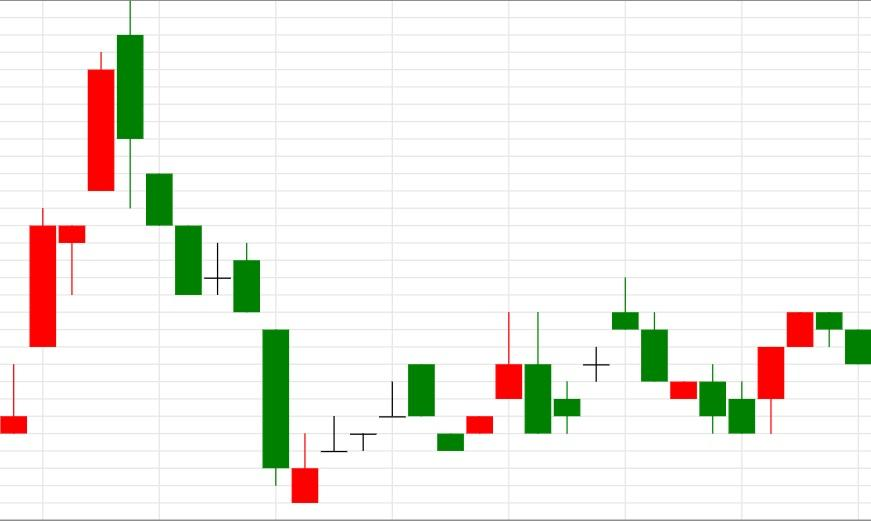bearish_engulfing_fall: (437, 311, 552, 452)
shooting_star_fall: (524, 278, 640, 434)
three_black_crows_fall: (0, 0, 203, 435)
